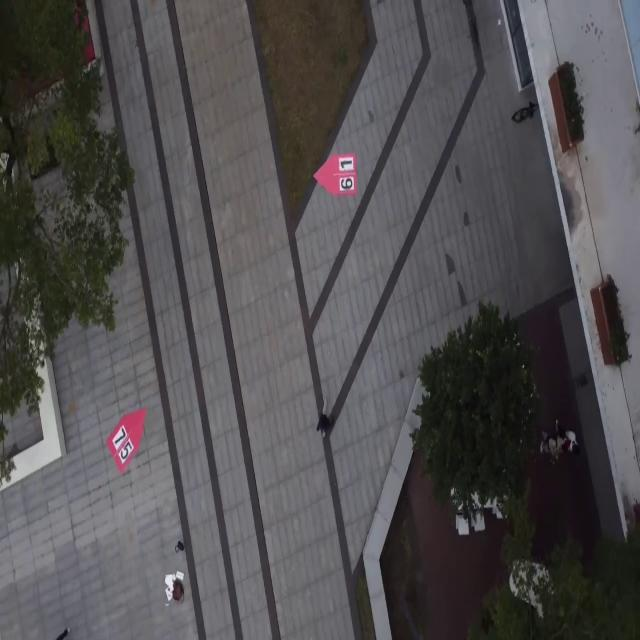-sign-: (106, 408, 147, 474), (312, 152, 358, 197)
